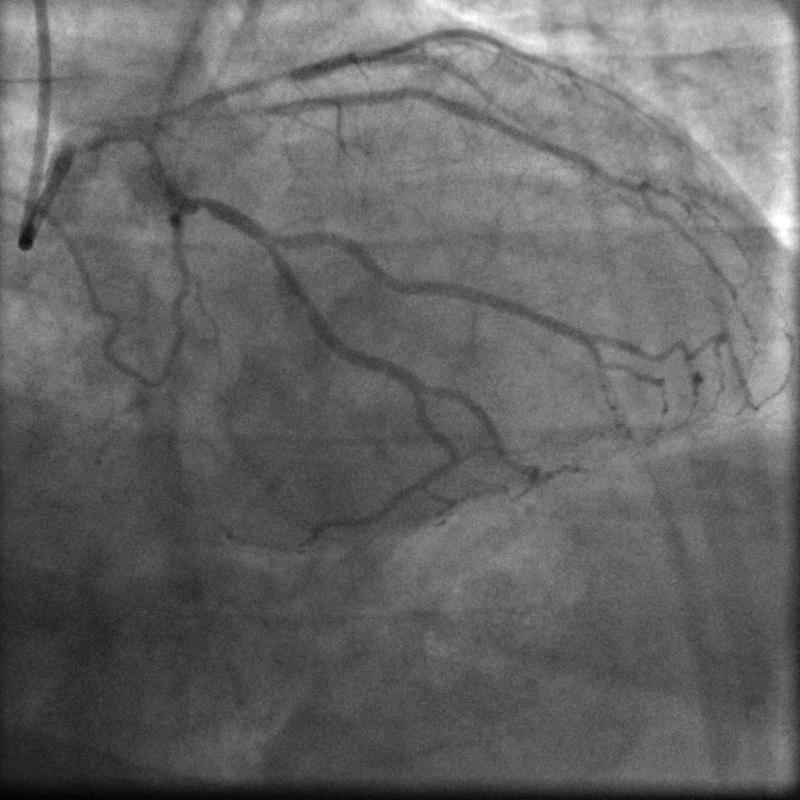Stenosis: (187, 193, 213, 217)
